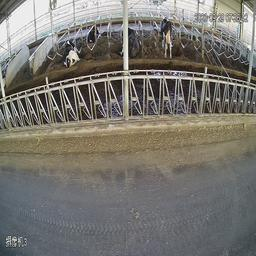cow: (62, 35, 84, 67), (121, 26, 141, 57), (159, 14, 173, 58), (86, 19, 103, 45)
